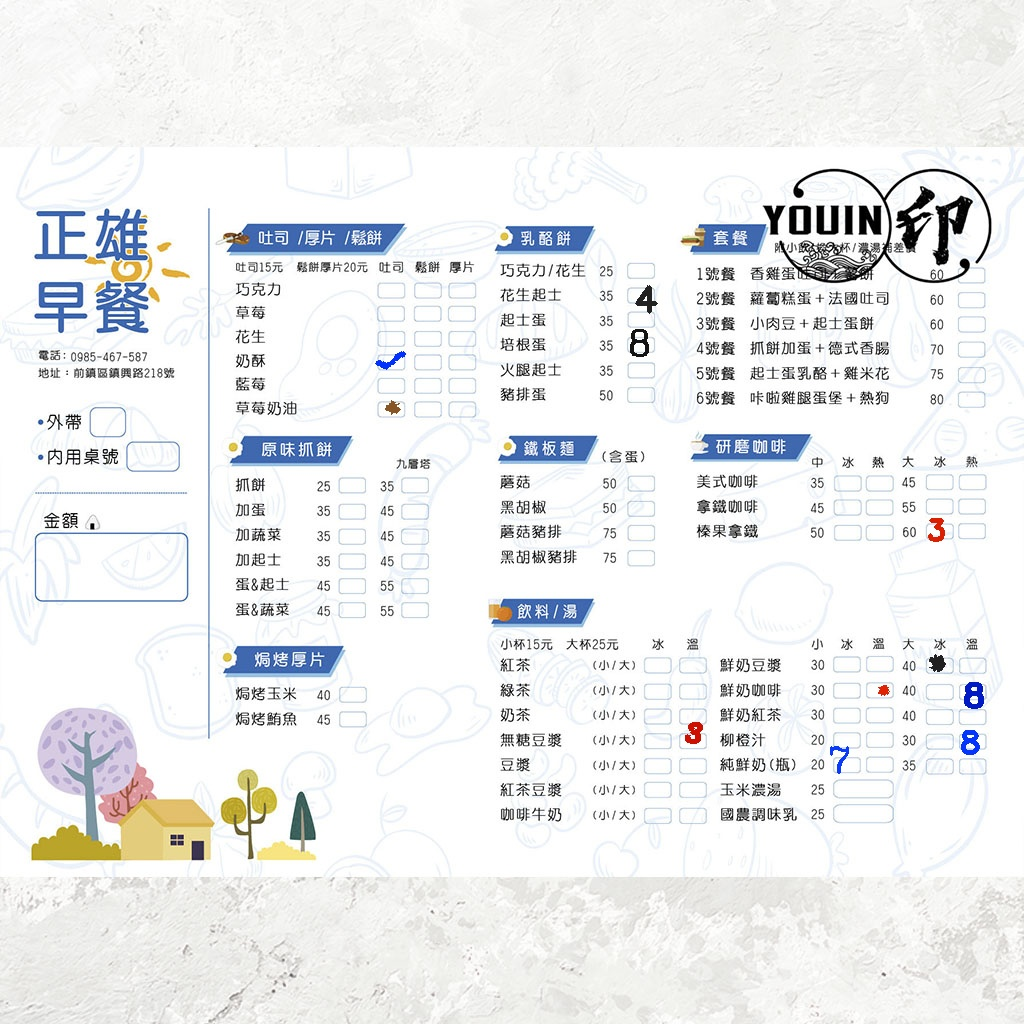marked_circle: (869, 682, 895, 696), (926, 657, 952, 671), (377, 401, 403, 415)
marked_number_3: (926, 522, 952, 536), (679, 732, 705, 746)
marked_number_4: (628, 288, 654, 302)
marked_number_7: (832, 755, 858, 769)
marked_number_8: (957, 732, 983, 746), (960, 684, 986, 698), (627, 337, 653, 351)
marked_tick: (378, 353, 404, 367)
